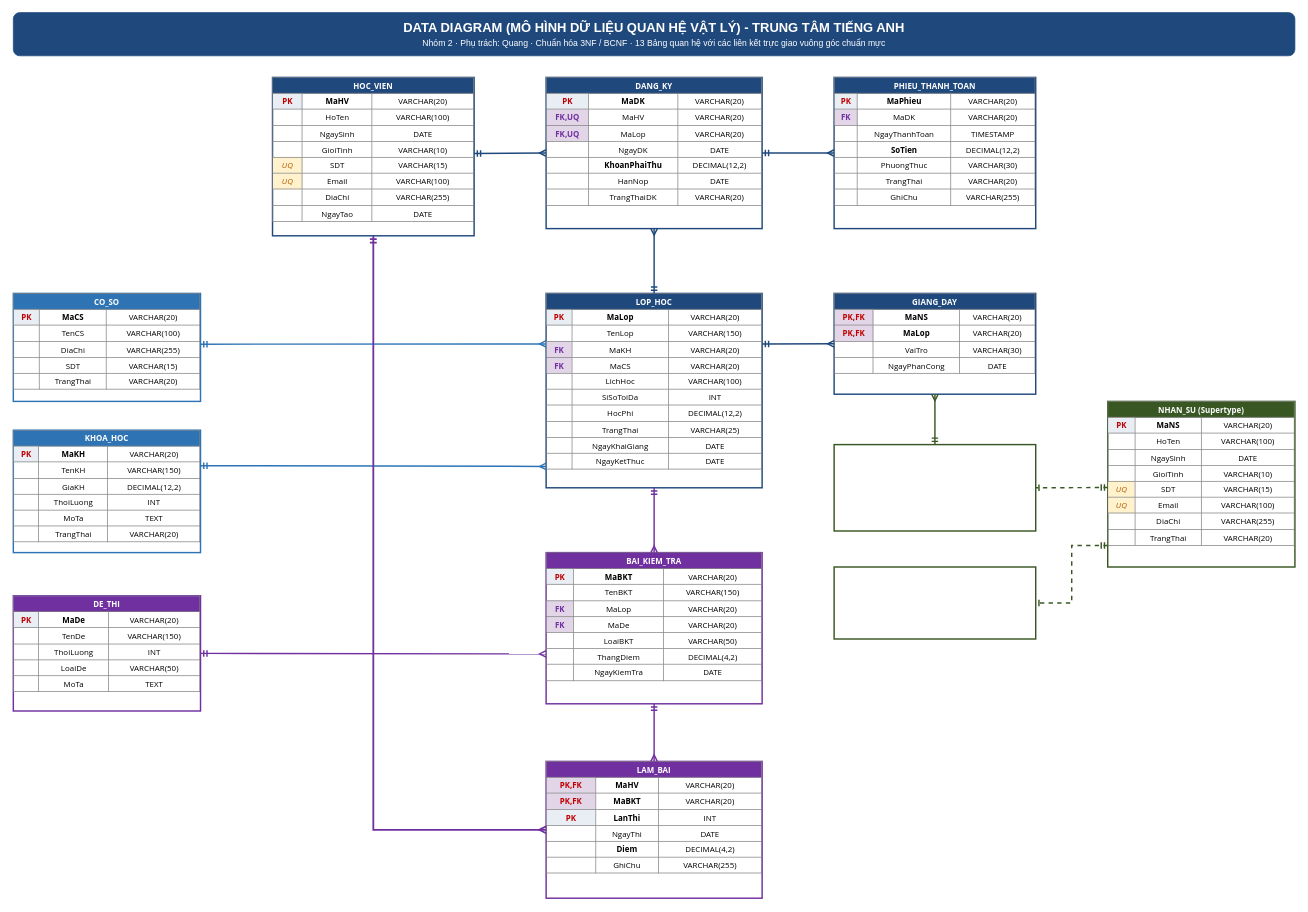
Some shapes in this 1308 by 912 pixel diagram are drawn without their labels. Each missing label, with the centre of its shape:
"GIAO_VIEN (ISA) PK,FK MaNS VARCHAR(20) HocVi VARCHAR(50) ChuyenMon VARCHAR(100)" belongs at point (934, 487).
"NHAN_VIEN (ISA) PK,FK MaNS VARCHAR(20) ViTri VARCHAR(50)" belongs at point (934, 602).
